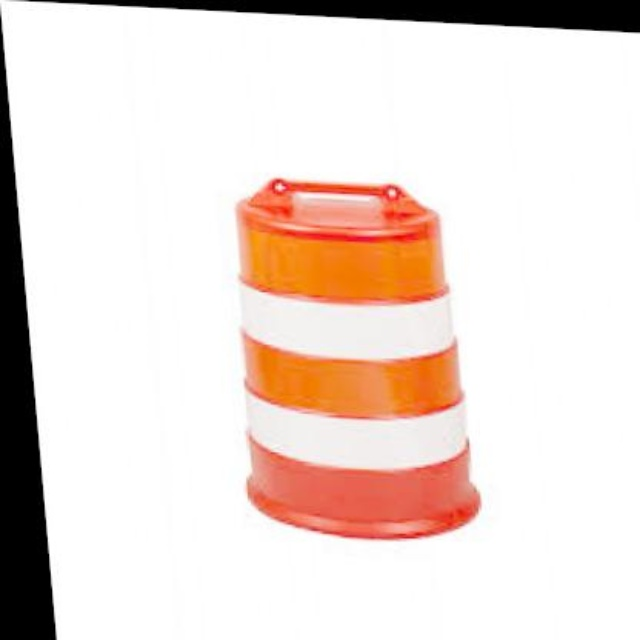obstacle: (203, 161, 505, 549)
